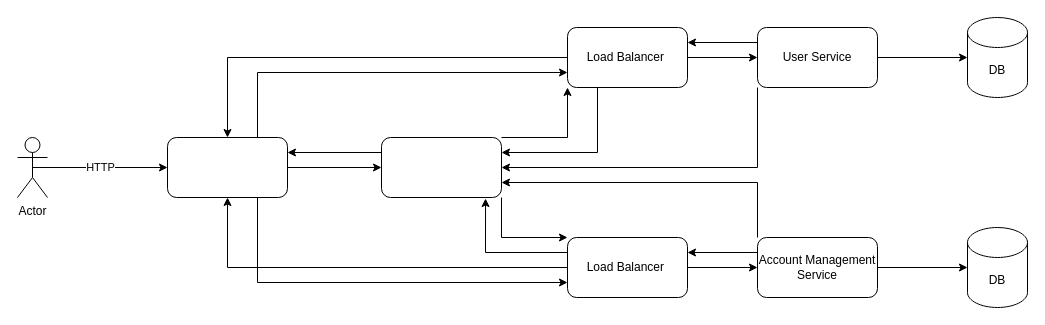
The diagram is 1045 pixels wide and 325 high, and some of its shapes have lost their labels. Each missing label, with the box of its shape:
API Gateway: (166, 136, 288, 198)
Service Discovery: (380, 136, 502, 198)
